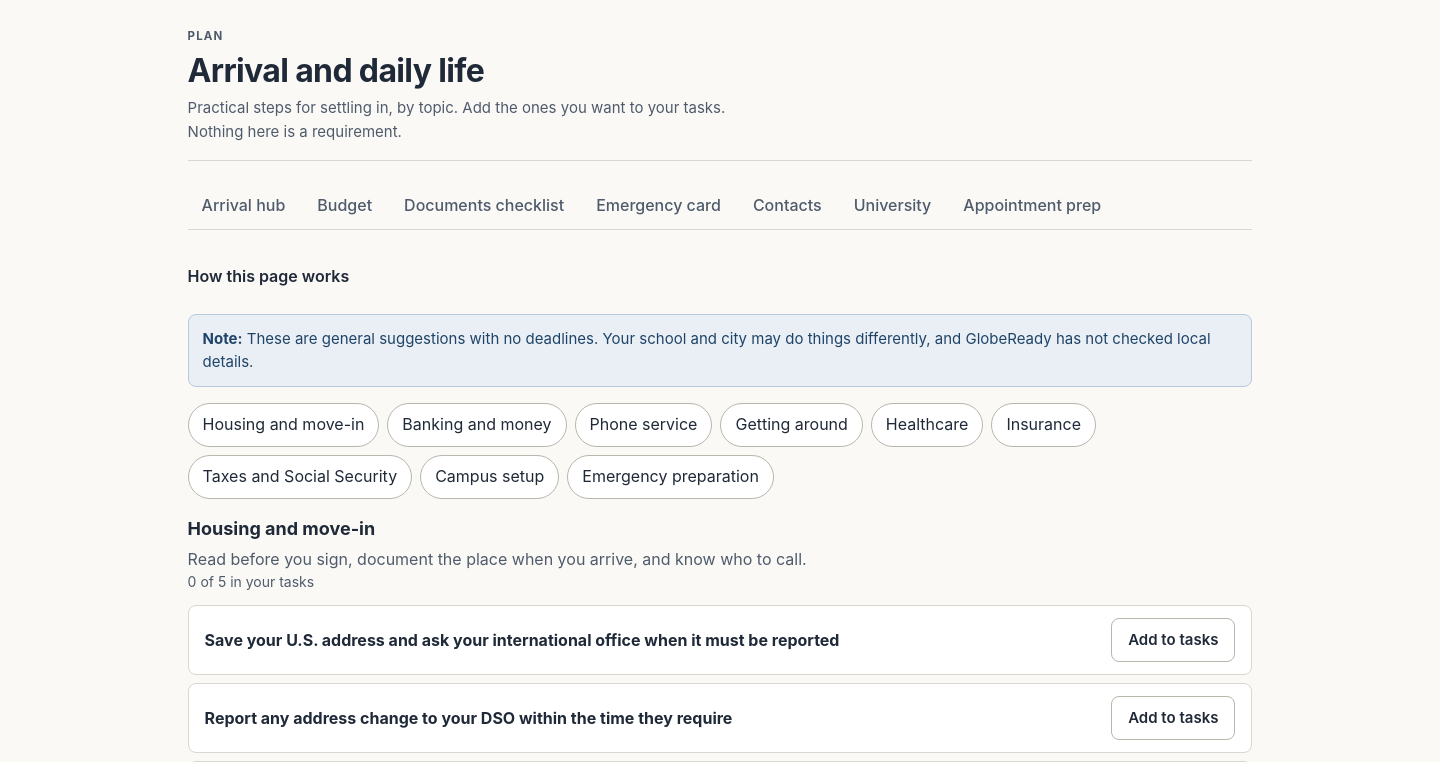
LifeHubPage › explains a failure in plain words
Click the button with aria-label "Add to tasks:" at (1173, 640), box [1111,618,1236,662]
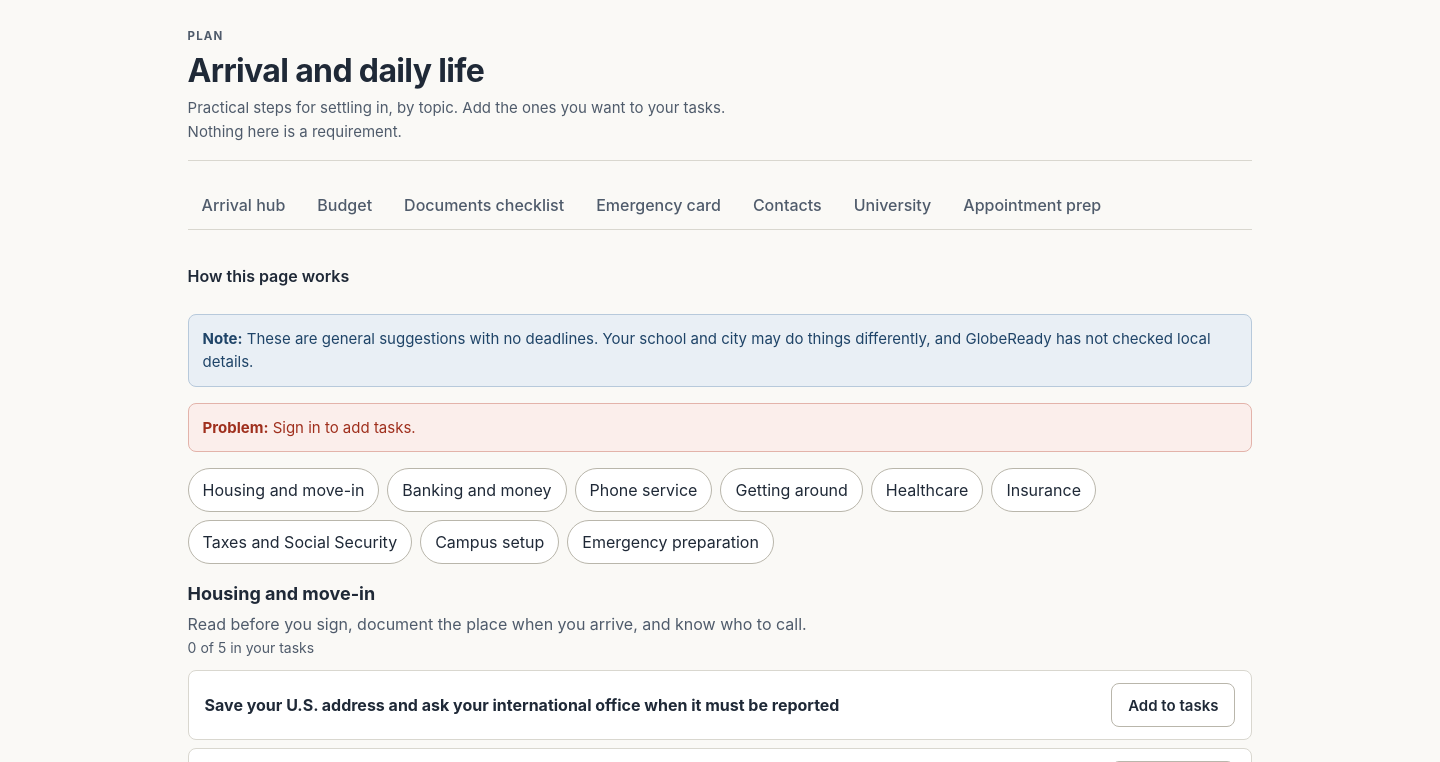
Check: the message "Problem: Sign in to add tasks." is shown, box [188,403,1252,452]
